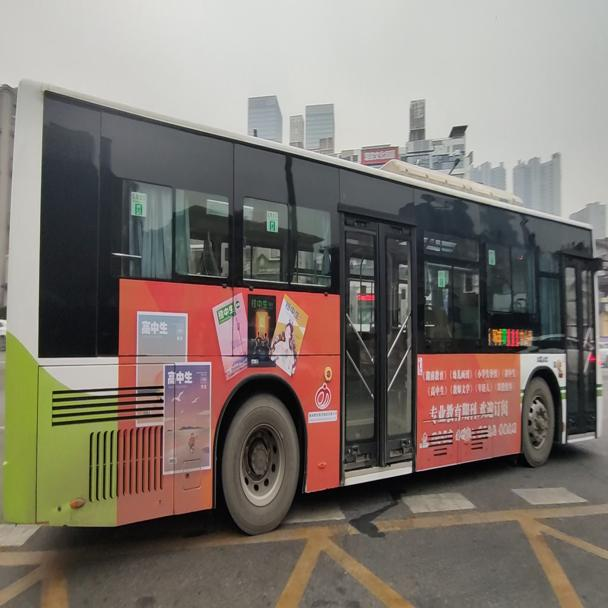bus: (8, 73, 593, 533)
screen: (504, 326, 520, 351)
